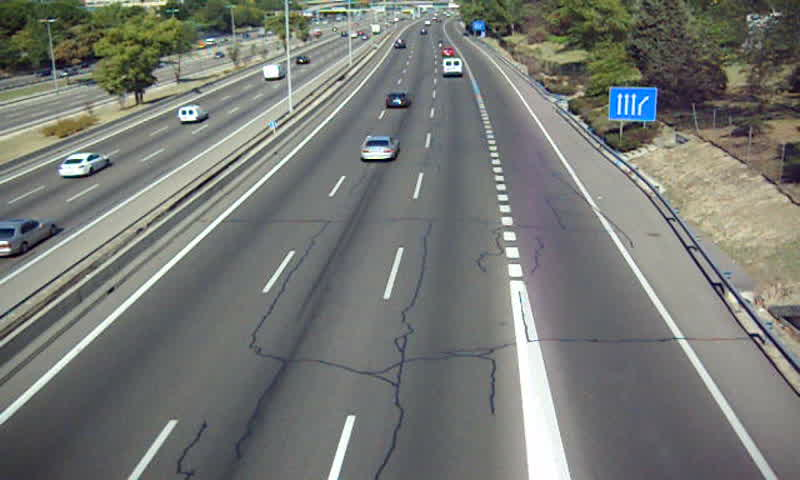car: (360, 137, 400, 162), (385, 92, 410, 110)
van: (442, 57, 462, 77)
